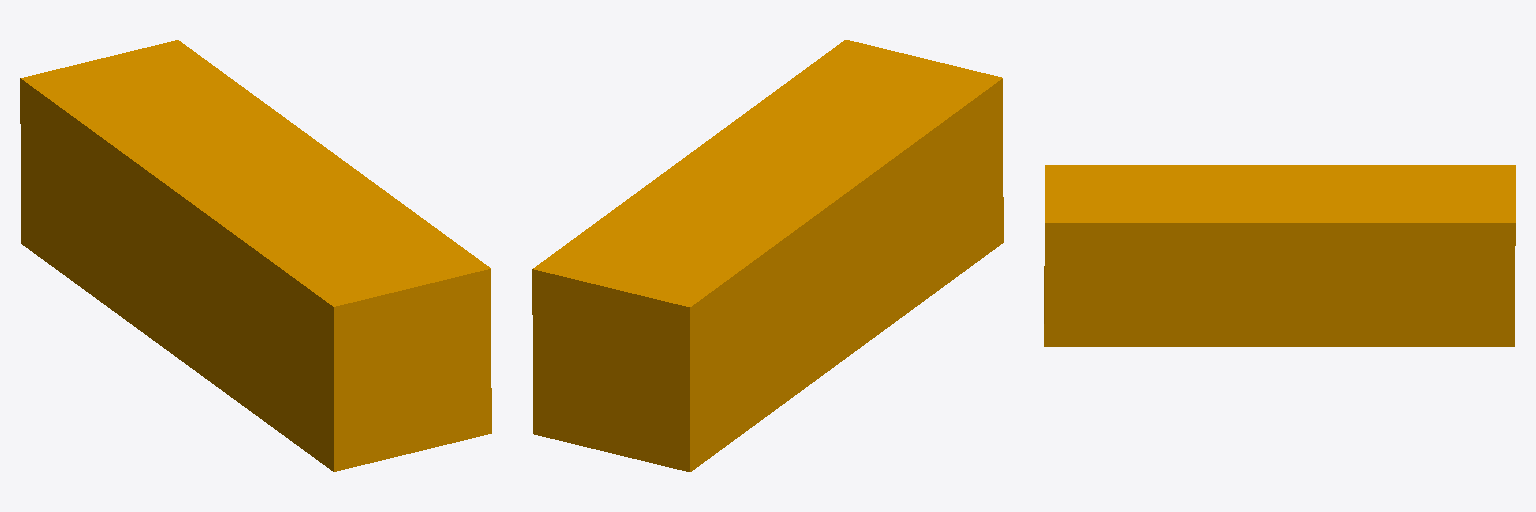
The robot description file, URDF, robot "1x4cube":
<?xml version='1.0' encoding='UTF-8'?>
<robot name="1x4cube">
  <link name="base_link">
    <visual name="base_link_visual">
      <geometry>
        <mesh filename="1X4.dae" scale="1. 1. 1."/>
      </geometry>
      <origin xyz="0 0 0" rpy="1.57 0 0"/>
    </visual>
    <collision name="base_link_collision">
      <geometry>
        <mesh filename="1X4.dae" scale="1. 1. 1."/>
      </geometry>
      <origin xyz="0 0 0" rpy="1.57 0 0"/>
    </collision>
  </link>
</robot>

--- What the picture shows (computed from the rendered views, not written in the file) ---
3 views of the same robot in one strip: view 1: azimuth 30°, elevation 25°; view 2: azimuth 150°, elevation 25°; view 3: azimuth 270°, elevation 25° (orthographic).
Model 1x4cube with 1 links and 0 joints (none), rooted at base_link, posed every joint at zero.
Visible links, largest first — view 1: base_link; view 2: base_link; view 3: base_link.
Link boxes in pixels (<box>): base_link: <box>20,40,491,471</box>; base_link: <box>532,40,1003,471</box>; base_link: <box>1044,165,1515,346</box>.
Size in the robot's own frame: 0.2996 by 1.03 by 0.3005 metres.
Meshes: 1 distinct files referenced, 1 mesh visuals loaded (1 Collada DAE).